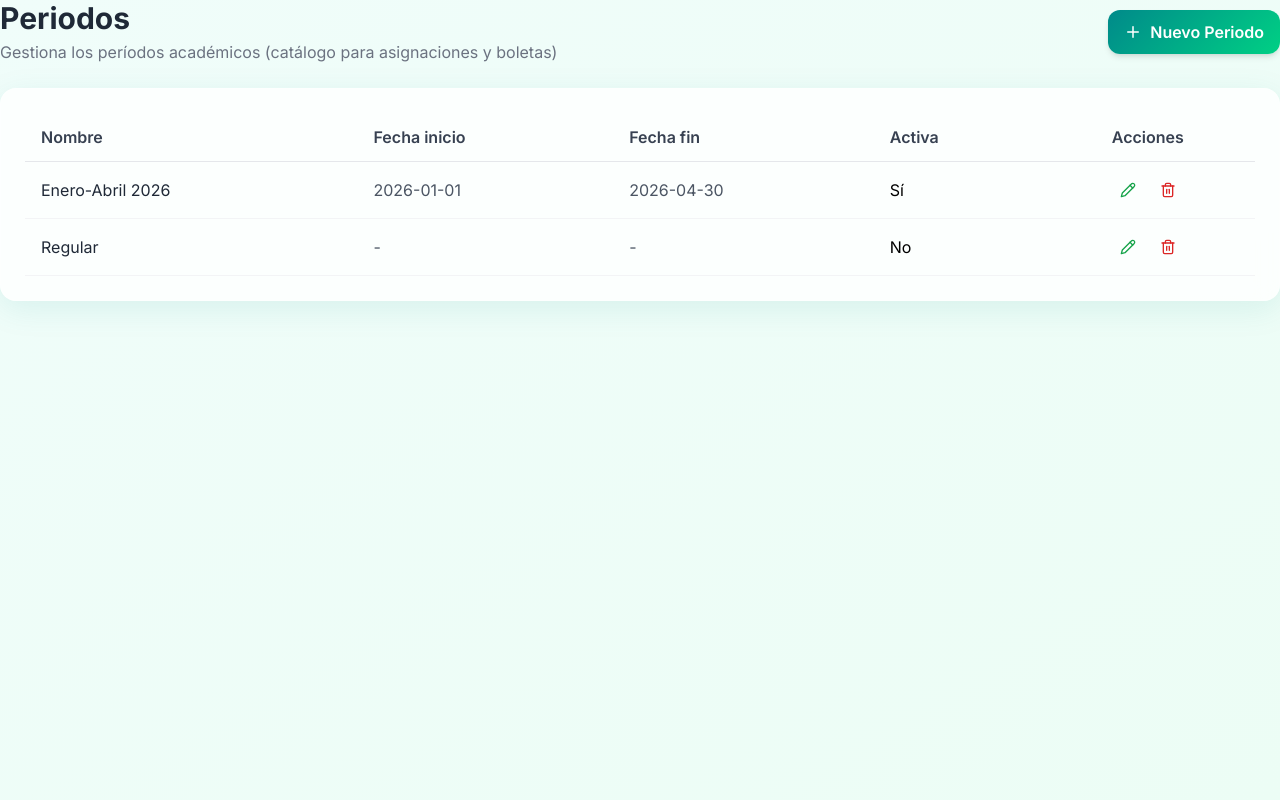
Test: Periodos CRUD › tiene boton Nuevo Periodo y abre modal crear
The width and height of the screenshot is (1280, 800).
Click the button "Nuevo Periodo" at (1194, 32), box [1108, 10, 1279, 54]
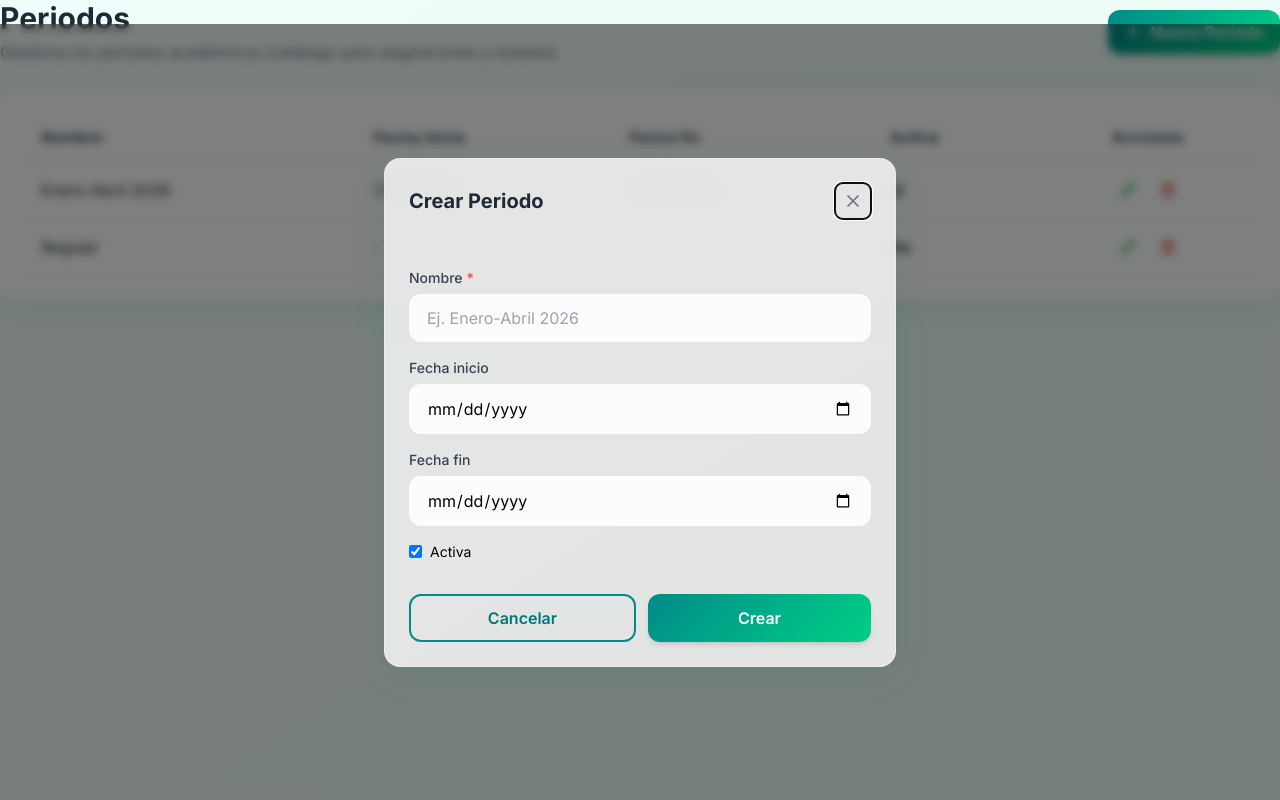
expect the heading "Crear Periodo" is shown: met, box [409, 186, 544, 214]
